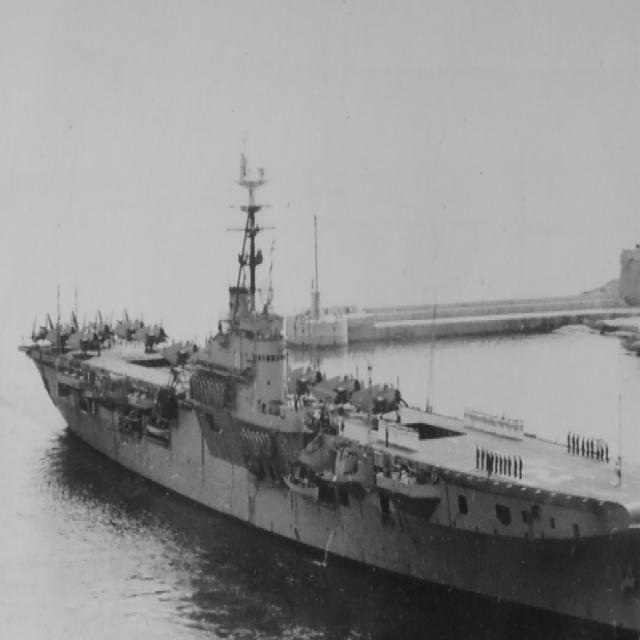Portanaves: (12, 142, 640, 640)
